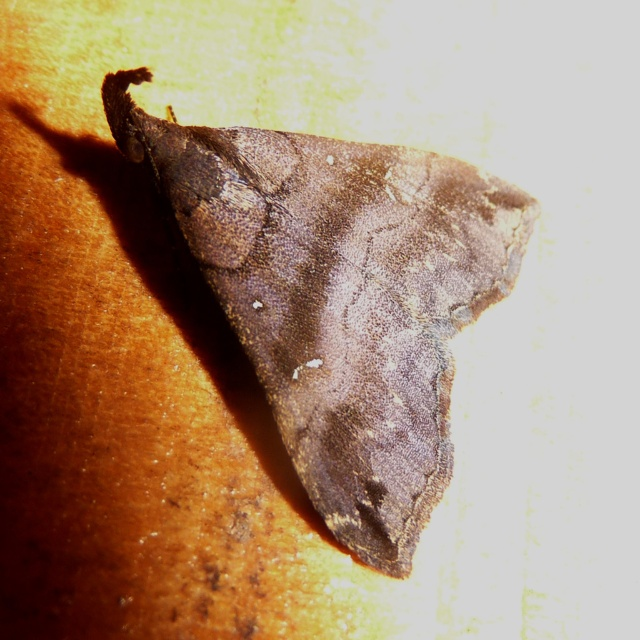Moths and butterflies: (112, 102, 545, 584)
